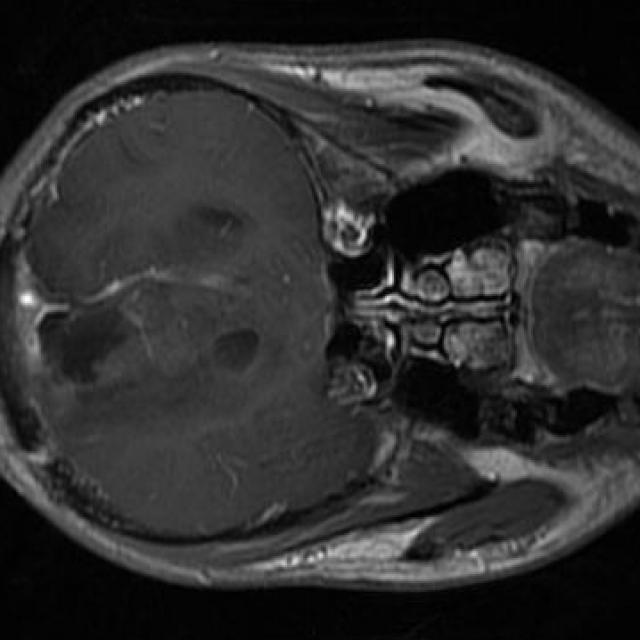glioma: (39, 305, 139, 390)
